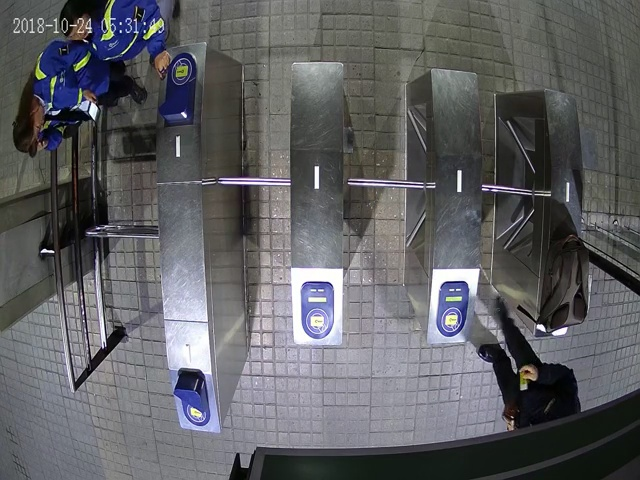Chaleco_azul: (11, 41, 147, 155), (58, 1, 172, 79)
